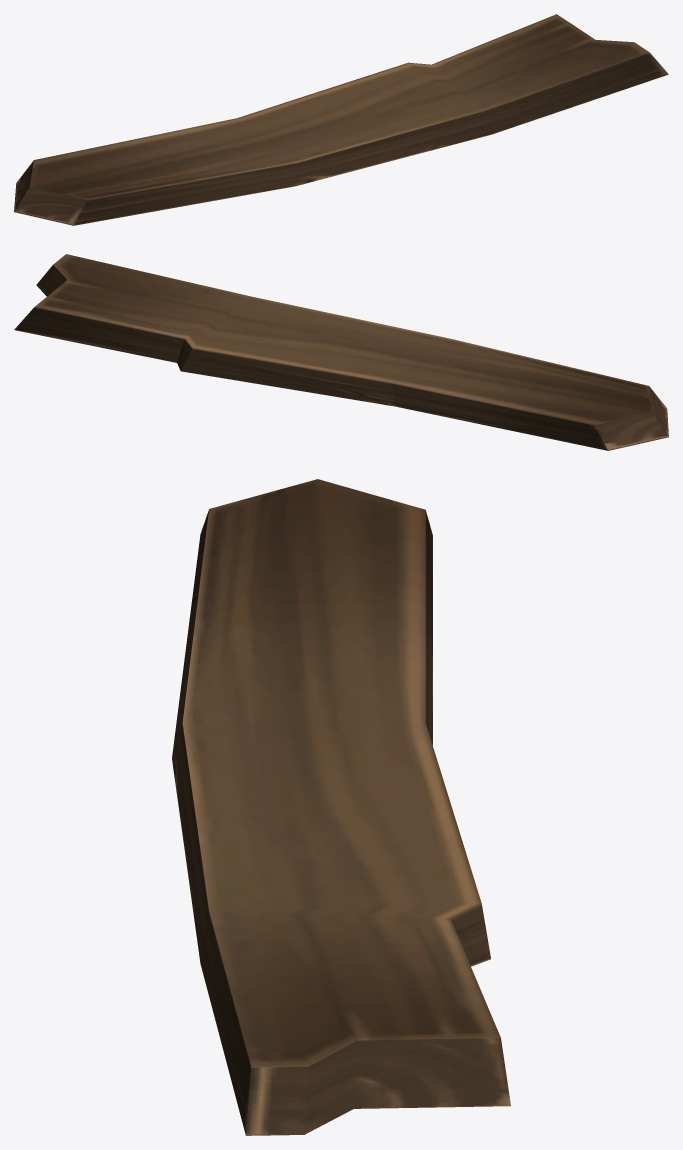
The model's file is bandit_groundboard_06.fbx.
3 views of the same model, one above another, from view 1: azimuth 30°, elevation 25°; view 2: azimuth 150°, elevation 25°; view 3: azimuth 270°, elevation 25° (orthographic). The views are drawn at different scales.
Visible parts, largest first — view 1: obj0.540; view 2: obj0.540; view 3: obj0.540.
Part boxes in pixels (bbox=[...]): obj0.540: bbox=[14, 14, 668, 225]; obj0.540: bbox=[14, 254, 668, 450]; obj0.540: bbox=[172, 479, 510, 1135].
Bounding box in the file's own units: 2.31 × 0.1081 × 0.5321.
